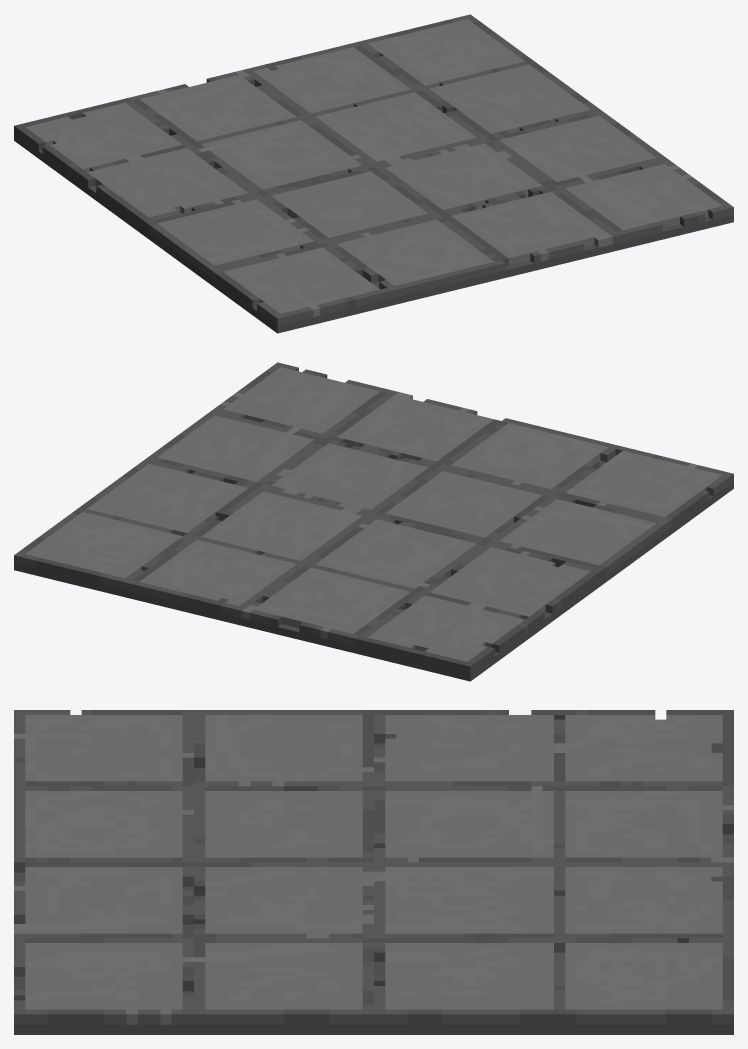
Rendered from Tutorialmap_V2_unfinished-16.obj.
The picture shows the model from 3 angles, top to bottom: view 1: azimuth 30°, elevation 25°; view 2: azimuth 150°, elevation 25°; view 3: azimuth 270°, elevation 25°; orthographic projection. The views are drawn at different scales.
Size of the model in its own units: 6.4 by 0.2 by 6.4.
Materials: 1 (1 with a texture image).
